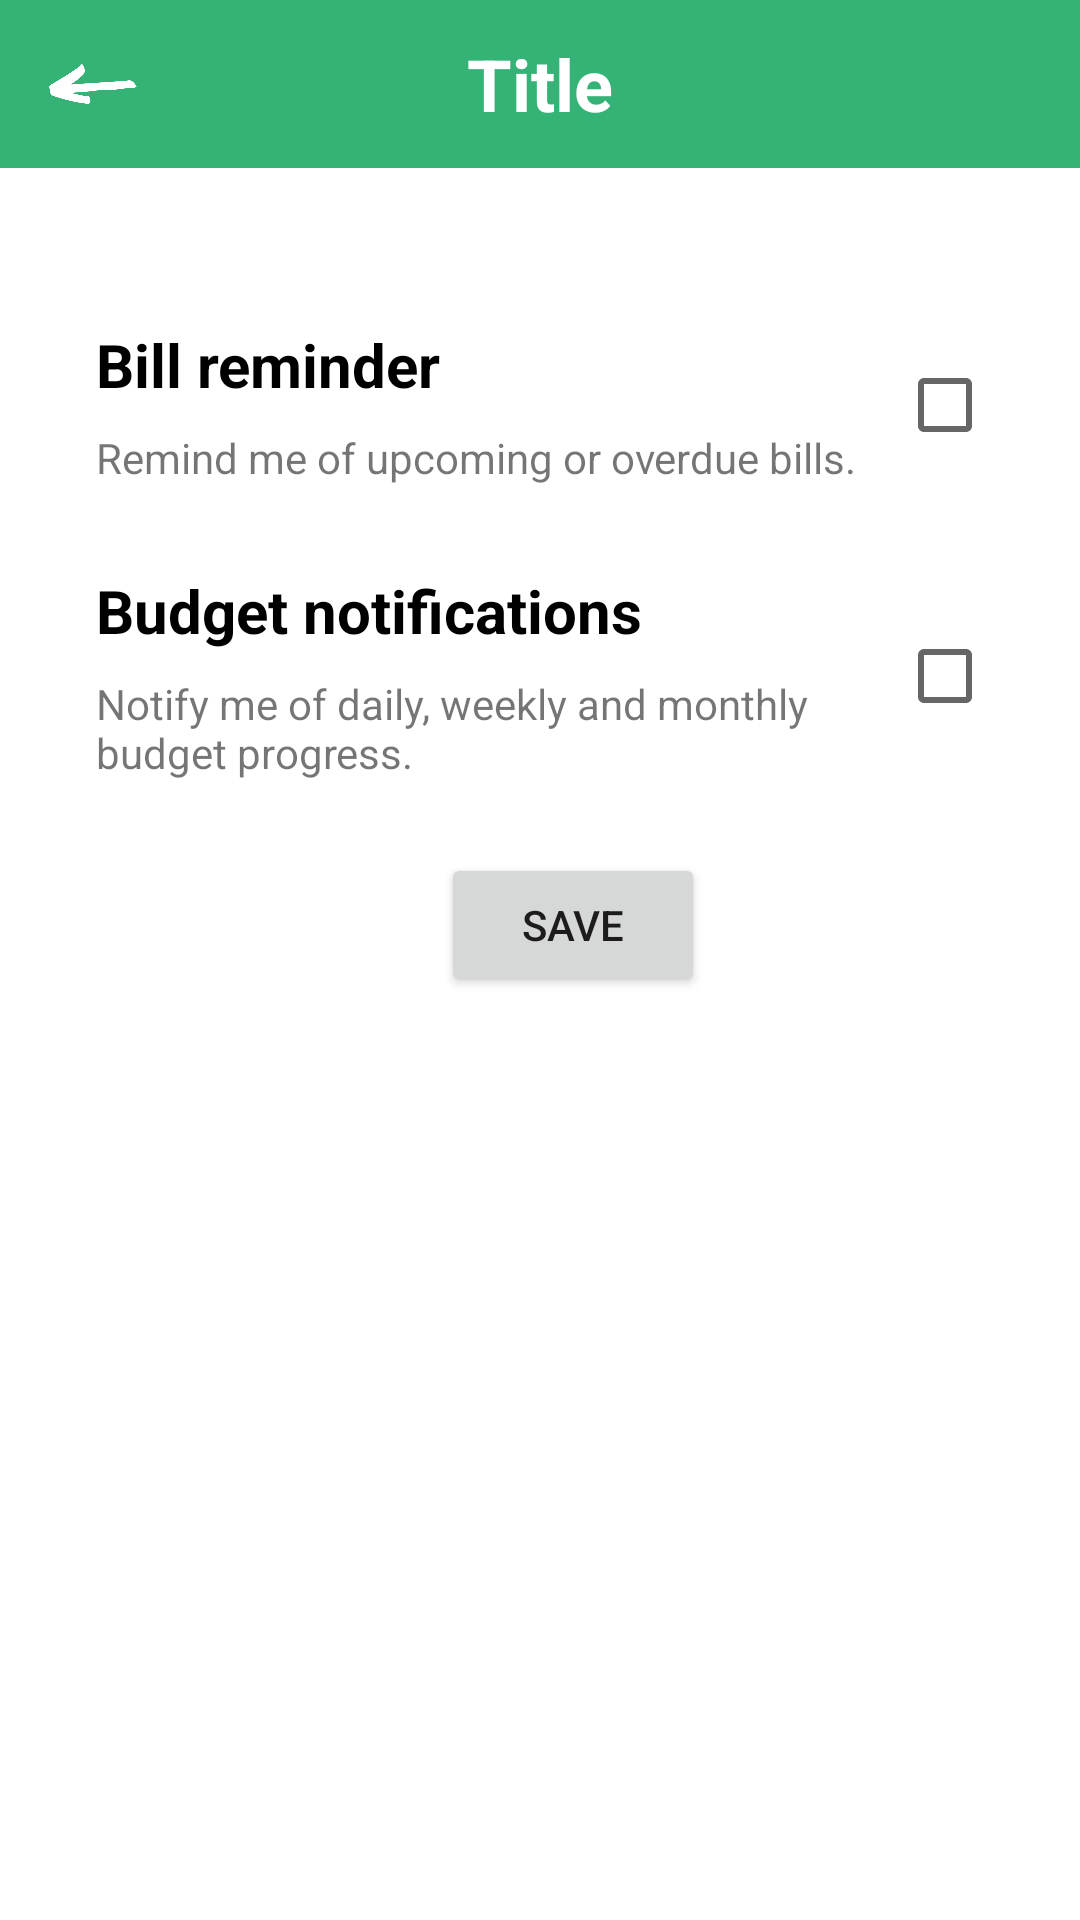

Icons on this 1080w x 1920h Android screen, each with its box as (x1, y1, x2, y2):
back: (49, 64, 137, 104)
